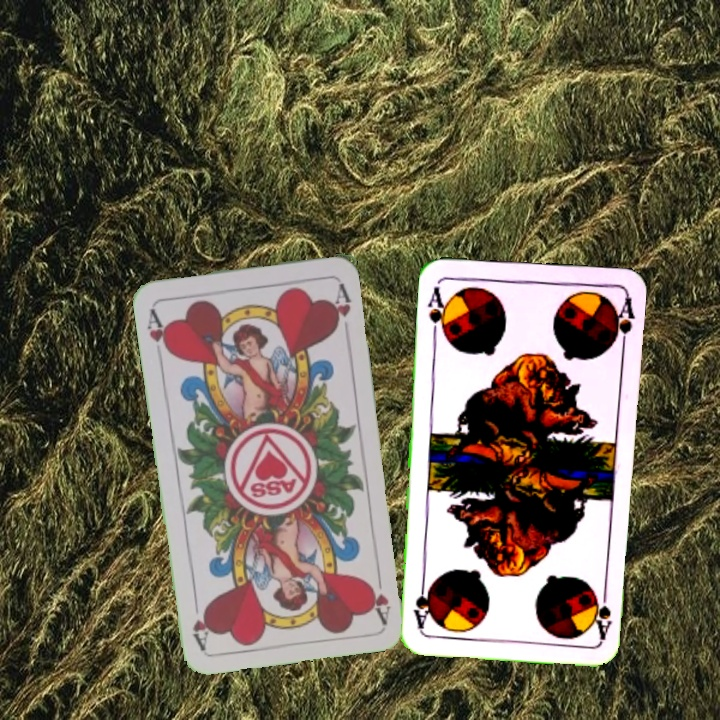HA: (142, 304, 174, 357), (365, 565, 393, 625)
SA: (424, 282, 451, 340), (589, 582, 614, 642)
